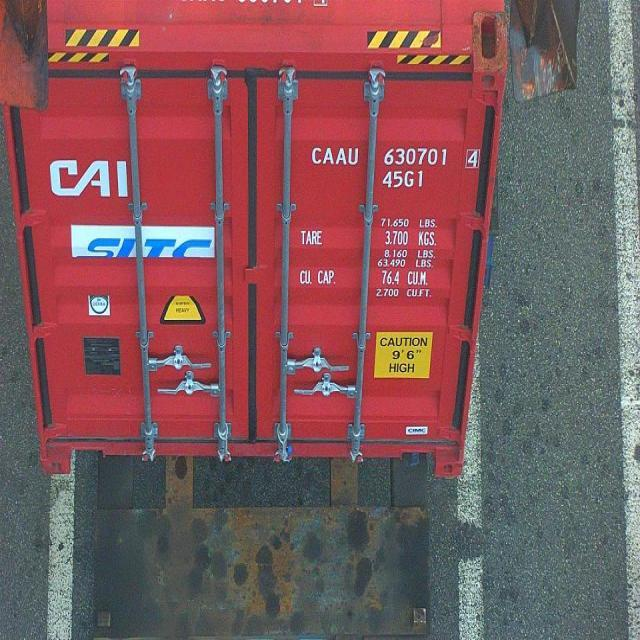ISO: (384, 169, 424, 188)
container_number: (314, 146, 476, 166)
